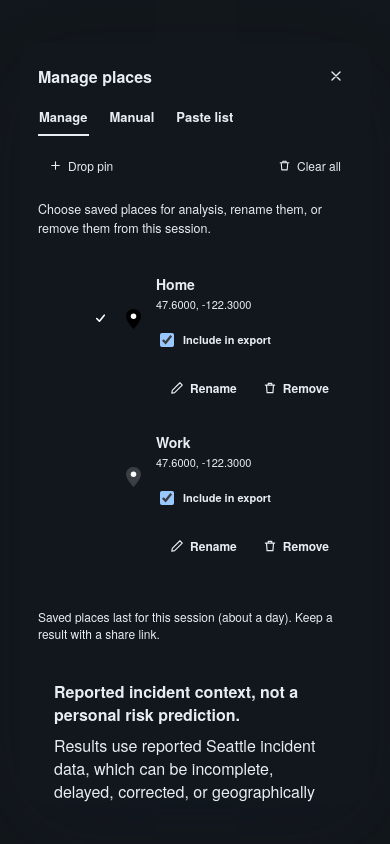
Test: ManagePlacesModal › switches to the Manual view and submits a place
Click the tab "Manual" at (132, 117), box [108, 98, 155, 136]
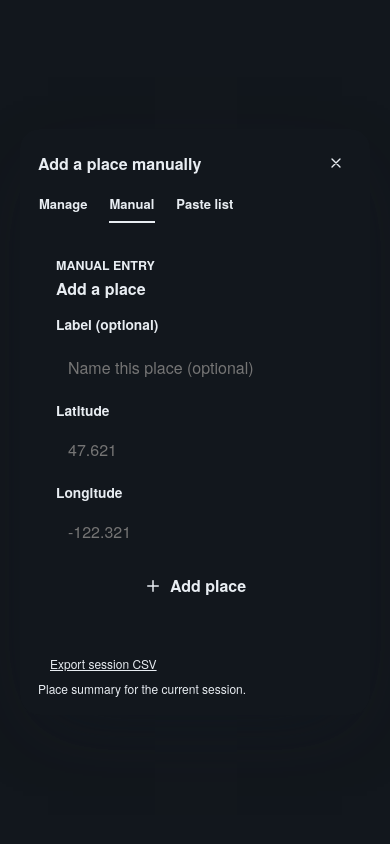
Now the dialog "Add a place manually" is shown
